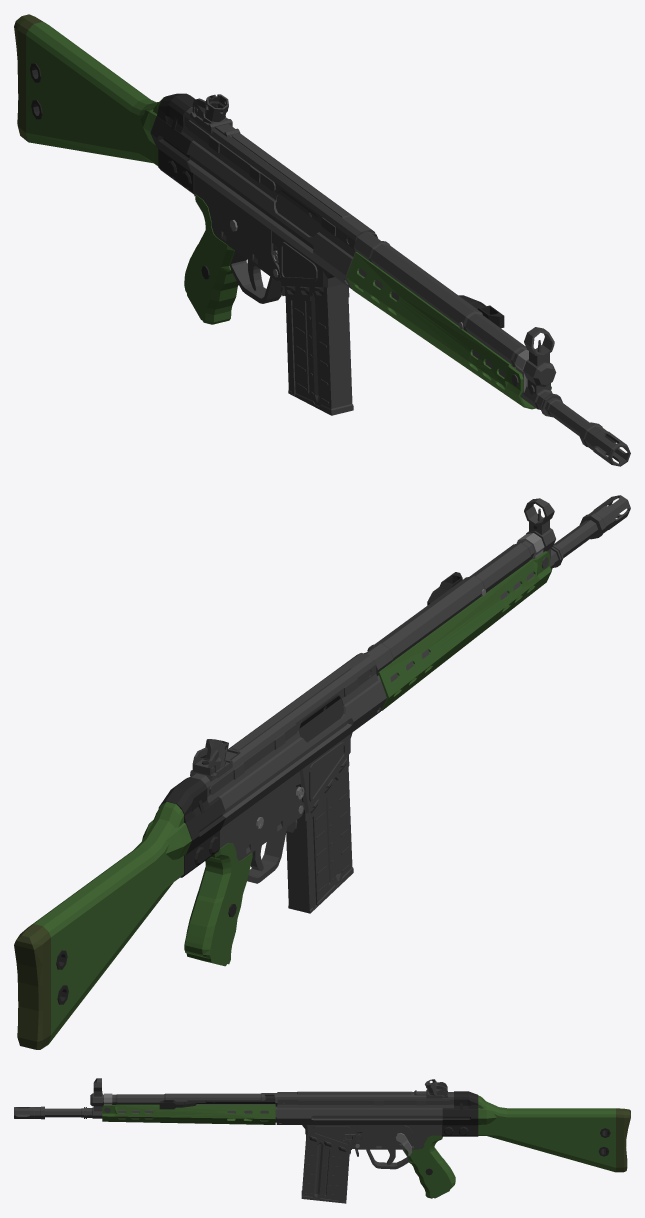
The picture shows the model from 3 angles, top to bottom: view 1: azimuth 30°, elevation 25°; view 2: azimuth 150°, elevation 25°; view 3: azimuth 270°, elevation 25°; orthographic projection. The views are drawn at different scales.
Visible parts, largest first — view 1: Object_5, Object_7, Object_6, Object_2; view 2: Object_5, Object_7, Object_6, Object_2; view 3: Object_5, Object_7, Object_6, Object_2, Object_8.
Boxes of the visible parts, x1,y1,x2,y2 form: Object_5: (183, 94, 630, 466); Object_7: (26, 22, 551, 409); Object_6: (30, 63, 504, 328); Object_2: (14, 14, 42, 141); Object_5: (190, 495, 630, 913); Object_7: (30, 551, 551, 1043); Object_6: (56, 525, 536, 1004); Object_2: (14, 924, 50, 1049); Object_5: (14, 1078, 453, 1203); Object_7: (102, 1095, 615, 1198); Object_6: (102, 1091, 610, 1175); Object_2: (616, 1108, 630, 1172); Object_8: (104, 1093, 411, 1156).
Bounding box in the file's own units: 0.0496 × 0.2444 × 1.12.
